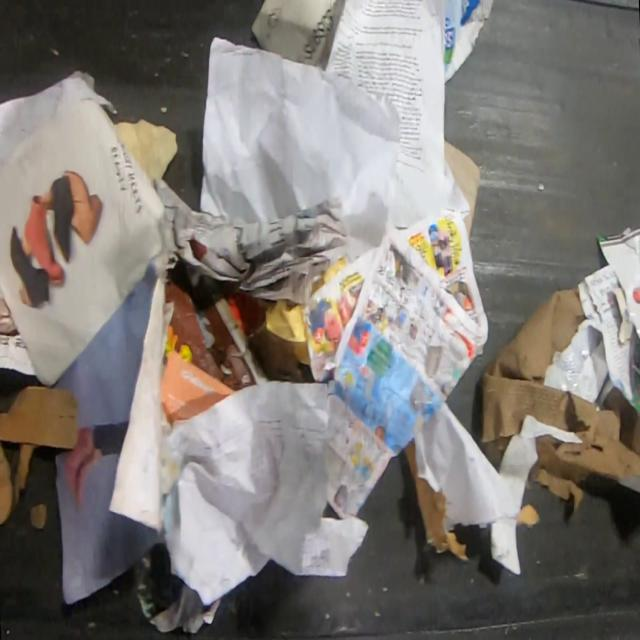cardboard: (478, 285, 640, 518), (489, 416, 583, 577), (0, 384, 81, 529), (596, 226, 640, 346)
